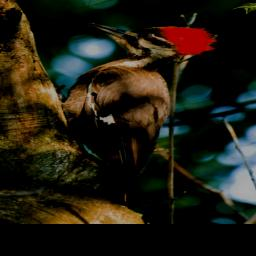Woodpecker: (46, 21, 217, 207)
